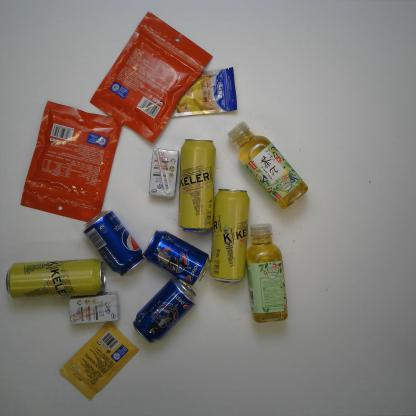Alcohol: (4, 253, 108, 301), (206, 184, 254, 286), (175, 134, 219, 236)
Dried Fruit: (87, 9, 216, 144), (19, 98, 124, 225)
Drink: (225, 119, 310, 210), (243, 221, 292, 326), (131, 275, 200, 346), (81, 206, 146, 278), (140, 226, 213, 287)
Milk: (66, 288, 124, 326), (147, 145, 181, 202)
Seasoner: (56, 318, 140, 404), (168, 65, 240, 120)
